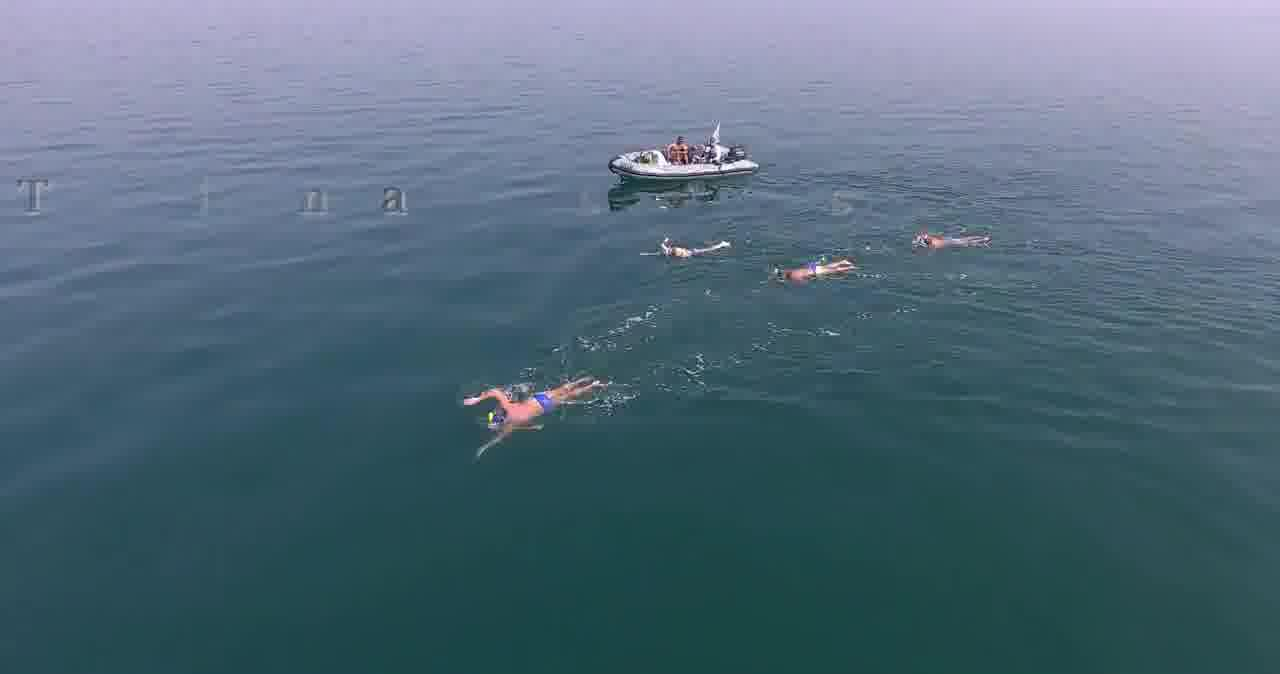swimmer: (450, 379, 541, 459), (647, 230, 734, 262), (900, 228, 976, 262), (766, 263, 854, 283)
